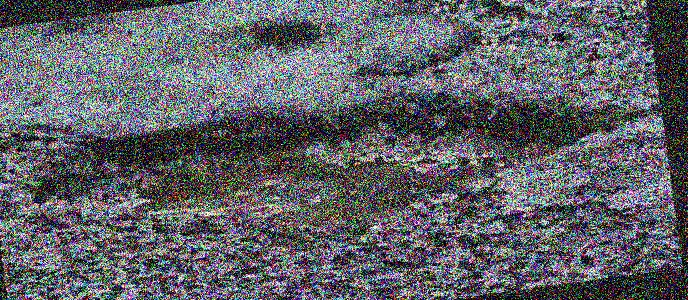pothole: (18, 58, 629, 277), (241, 8, 330, 58)
